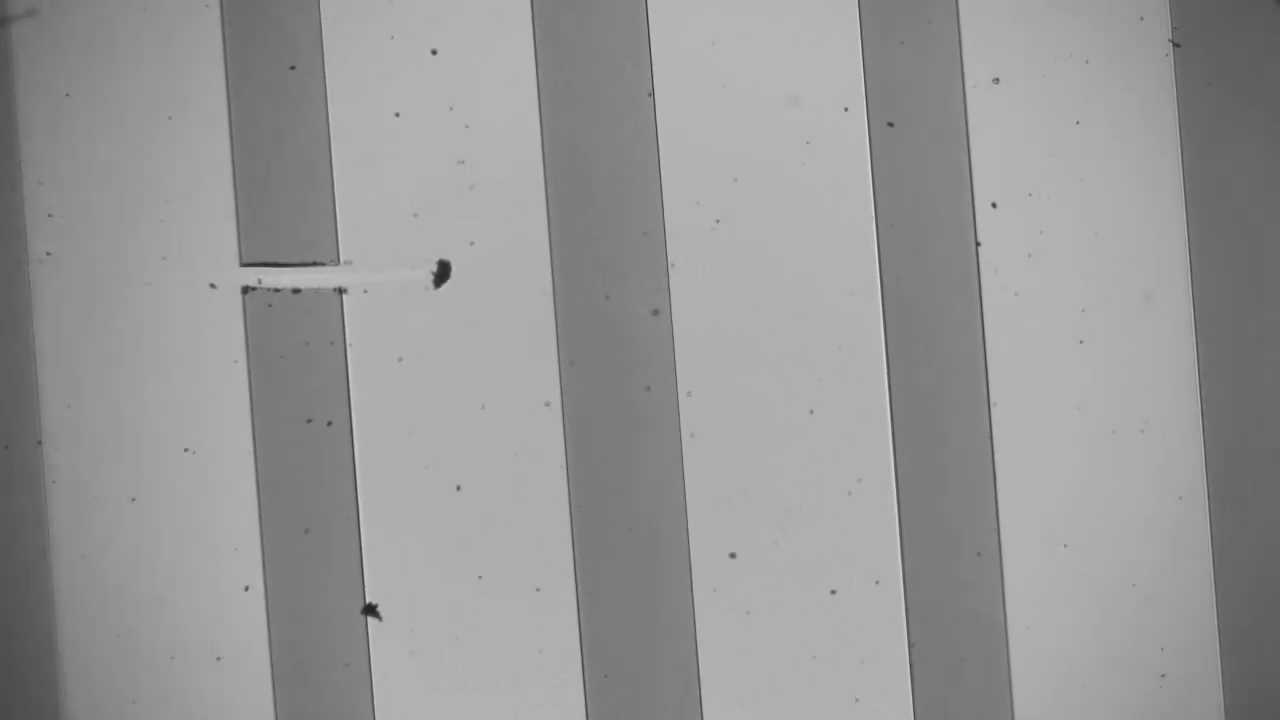Short_circuit: (214, 230, 375, 322)
